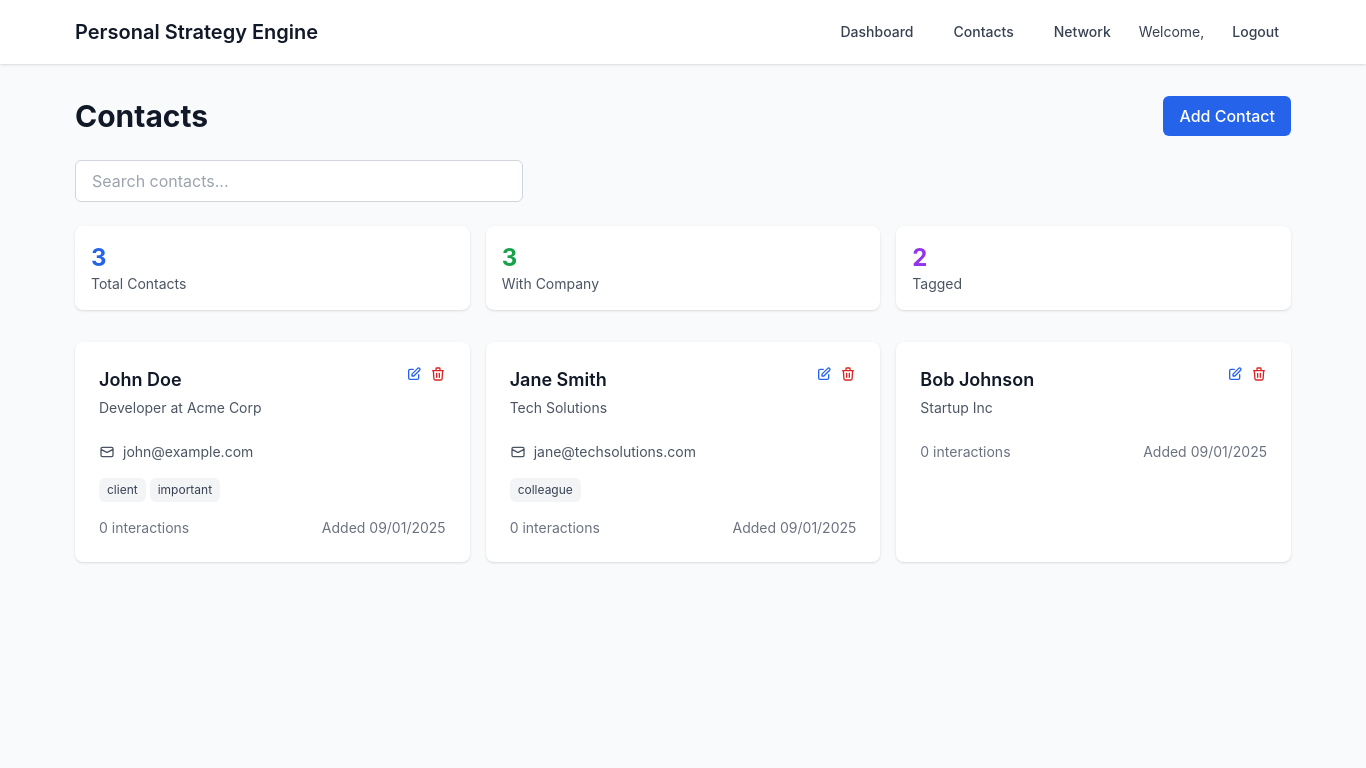
Scenario: ContactsPage Integration › Search Functionality › should filter contacts by name
Type "John Doe" into the field with placeholder "Search contacts...".
click(299, 181); type("John Doe")  # box [75,160,523,202]
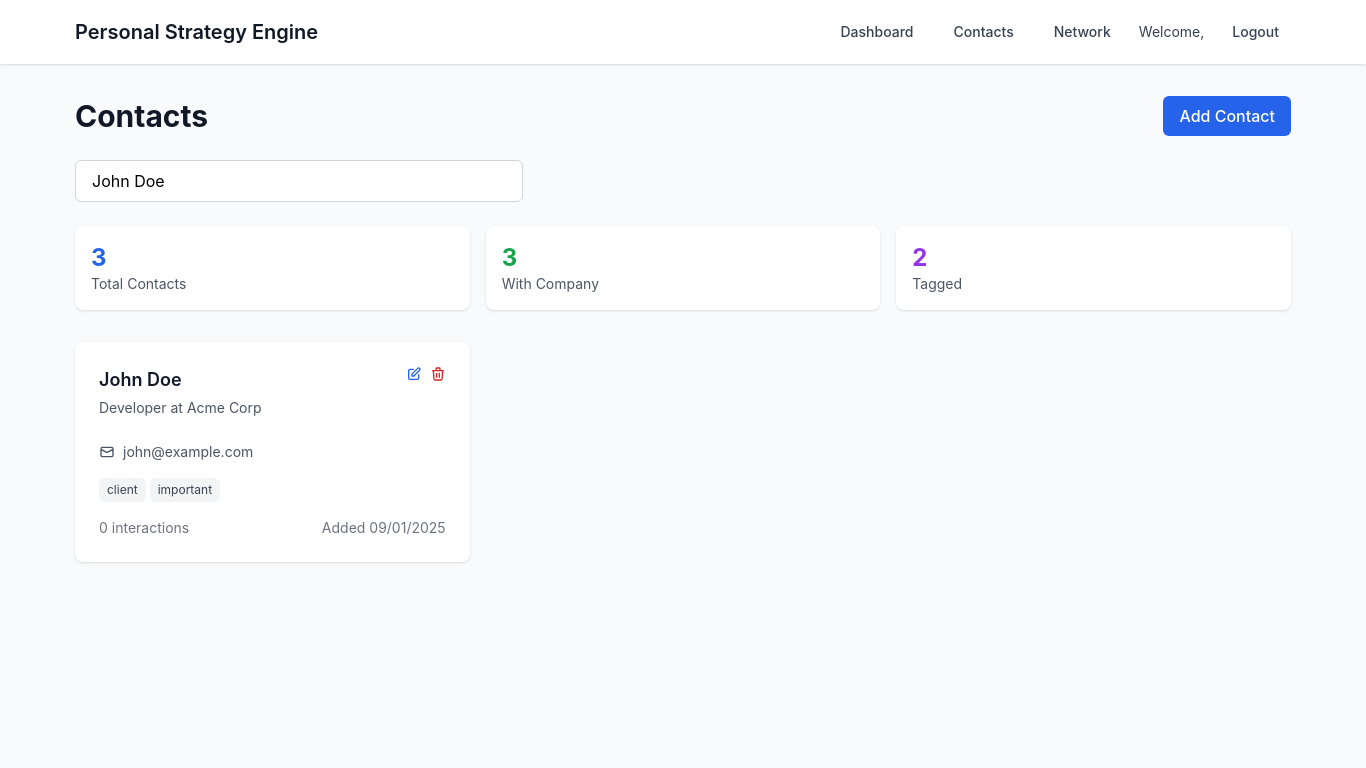
Expected: the heading "John Doe" is shown, [99,369,182,390]
Now the heading "Jane Smith" is gone
Now the heading "Bob Johnson" is gone
